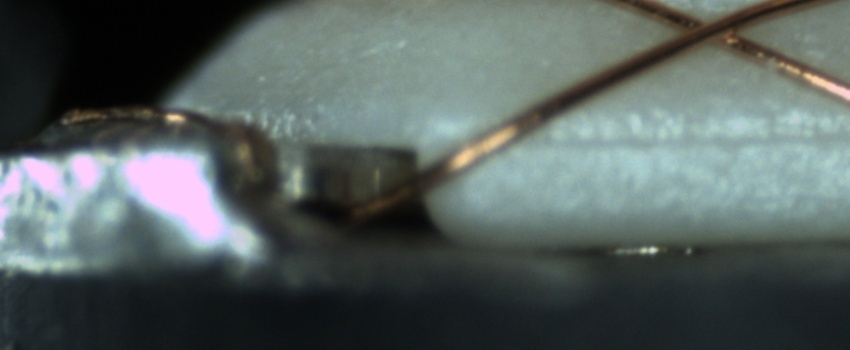CL: (656, 2, 775, 56)
DL: (531, 104, 849, 173)
TE: (55, 100, 271, 190)
